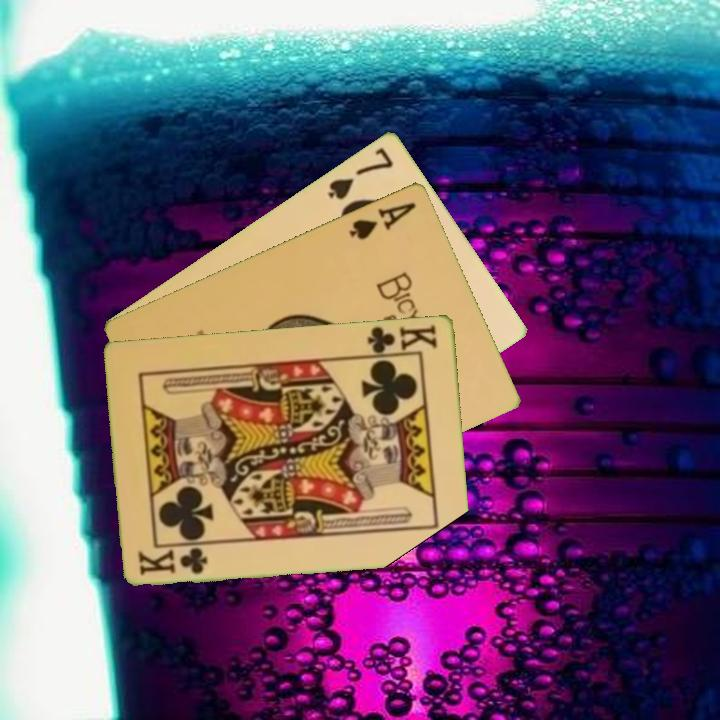7s: (324, 143, 397, 202)
As: (345, 198, 420, 242)
Kc: (362, 320, 440, 359), (135, 544, 211, 578)
